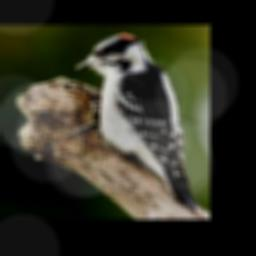Woodpecker: (66, 33, 205, 213)
